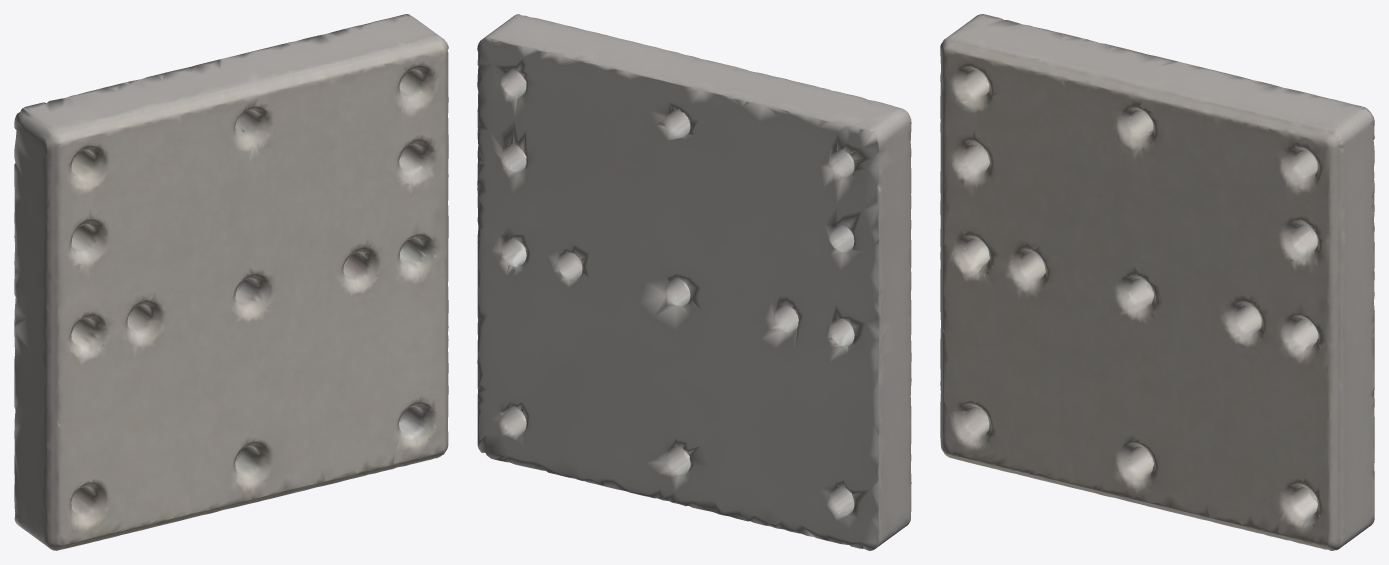
Rendered from base_basic_pbr.glb.
3 views of the same model, side by side, from view 1: azimuth 30°, elevation 25°; view 2: azimuth 150°, elevation 25°; view 3: azimuth 330°, elevation 25° (orthographic).
Visible parts, largest first — view 1: model; view 2: model; view 3: model.
Part boxes in pixels (x1=…): model: x1=14, y1=14, x2=448, y2=550; model: x1=477, y1=14, x2=911, y2=550; model: x1=940, y1=14, x2=1374, y2=550.
Size of the model in its own units: 1.9 by 1.9 by 0.3056.
Materials: 1 (1 with a texture image).
